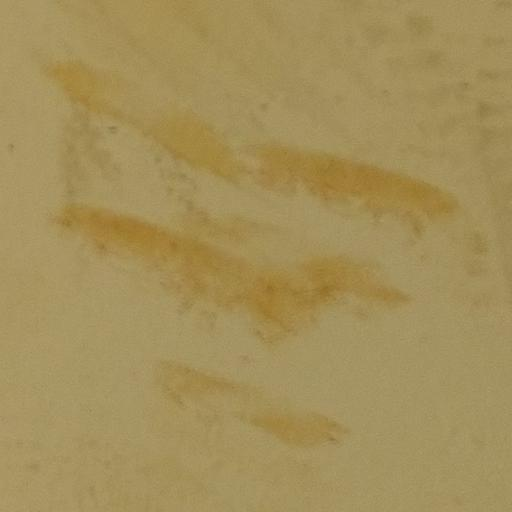stain: (39, 34, 501, 464)
